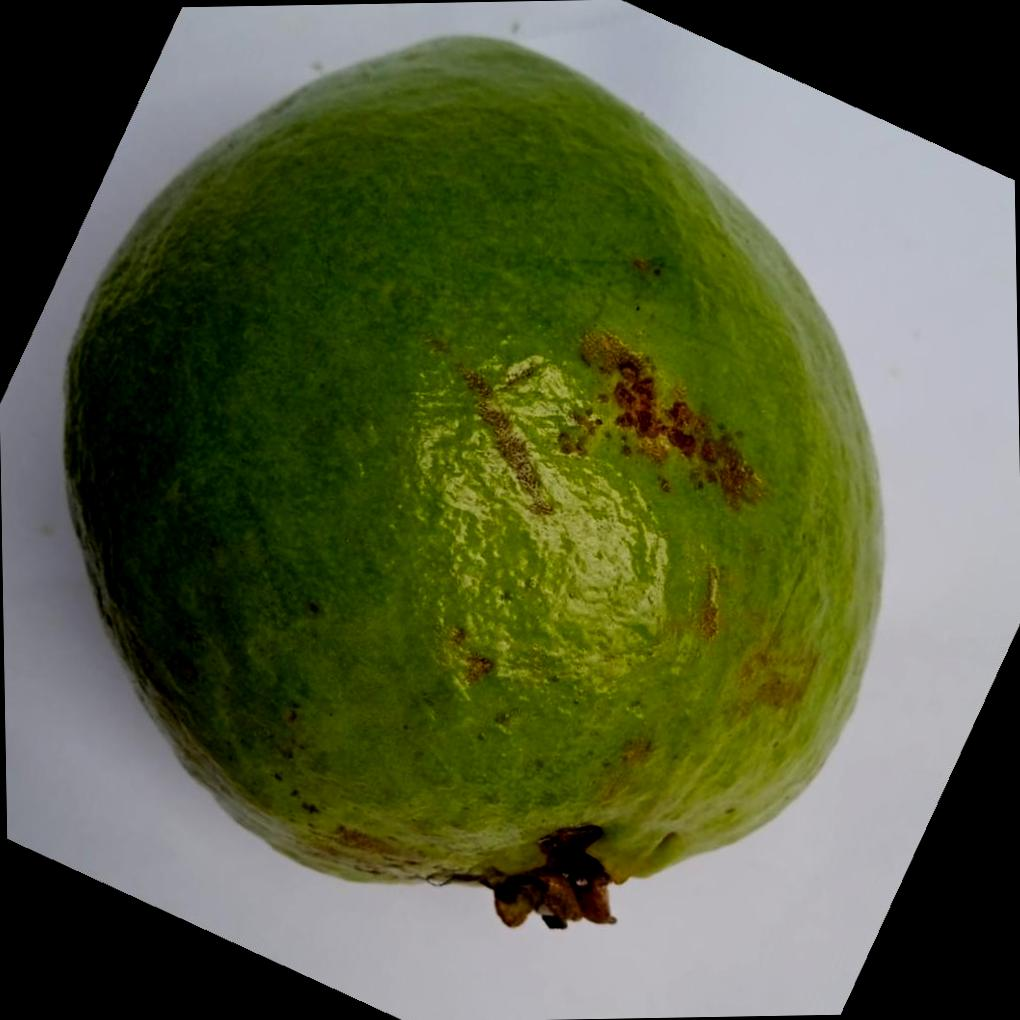FreshGuava: (59, 29, 888, 924)
